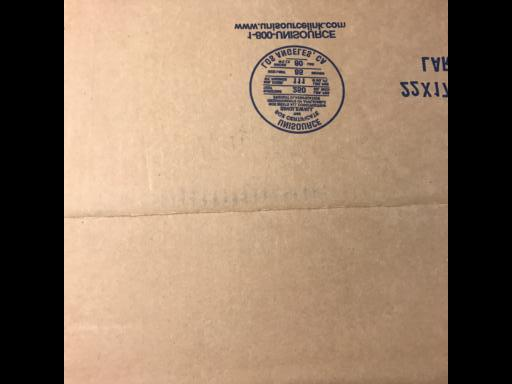cardboard: (74, 5, 445, 381)
